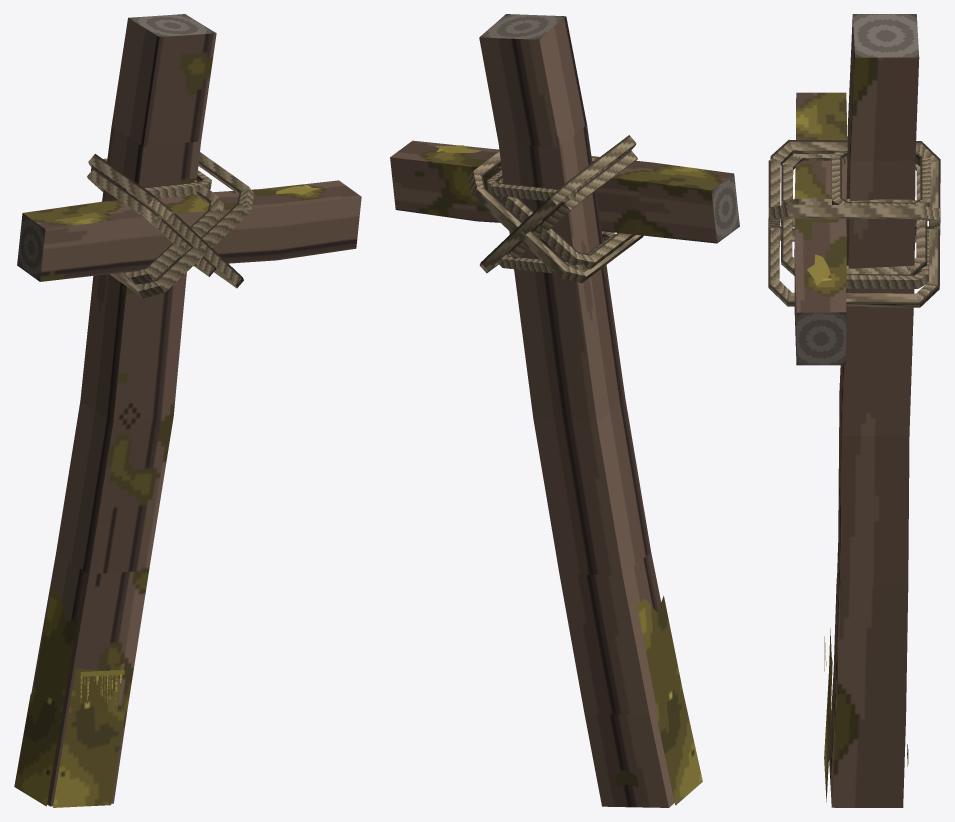
The model's file is SM_SW24_WoodenCrossTall.fbx.
The picture shows the model from 3 angles, left to right: view 1: azimuth 30°, elevation 25°; view 2: azimuth 150°, elevation 25°; view 3: azimuth 270°, elevation 25°; orthographic projection. The views are drawn at different scales.
Parts seen in each view (by area): view 1: SW24a_Planks, SW24a_Moss, SW24a_Props, SW24a_Plants; view 2: SW24a_Planks, SW24a_Props, SW24a_Moss; view 3: SW24a_Planks, SW24a_Props, SW24a_Moss.
Boxes of the visible parts, bbox=[...] form: SW24a_Planks: bbox=[23, 18, 361, 806]; SW24a_Moss: bbox=[14, 184, 321, 807]; SW24a_Props: bbox=[17, 14, 253, 298]; SW24a_Plants: bbox=[80, 669, 124, 707]; SW24a_Planks: bbox=[390, 16, 733, 807]; SW24a_Props: bbox=[468, 14, 739, 283]; SW24a_Moss: bbox=[434, 145, 702, 805]; SW24a_Planks: bbox=[794, 16, 919, 807]; SW24a_Props: bbox=[768, 14, 940, 365]; SW24a_Moss: bbox=[807, 254, 908, 802].
Bounding box in the file's own units: 0.8276 × 1.83 × 0.3473.
